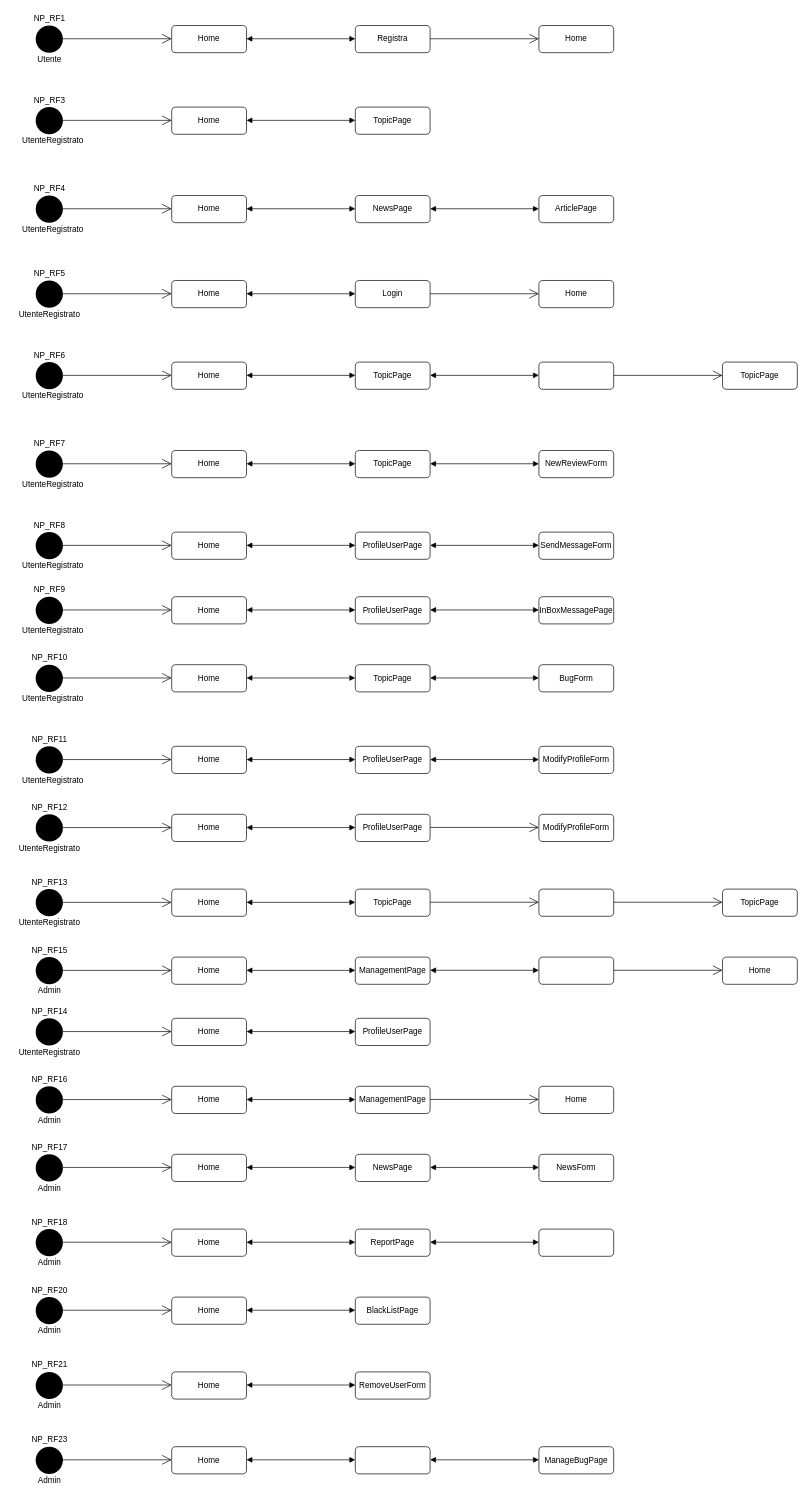
Image size: 809x1499. Some labels were removed from this diagram. Here are the shapes that lost their labels. From the top down, the centre of each, then its label:
At pixel 576 375: "TopicForm".
At pixel 576 902: "ReportForm".
At pixel 576 970: "NewTitleForm".
At pixel 576 1242: "ManageReportPage".
At pixel 392 1460: "BugPage".
